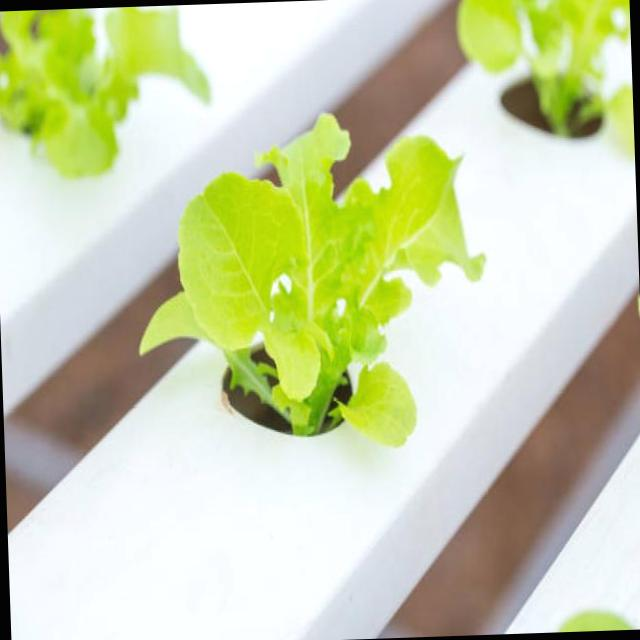Lettuce-Ready-to-Harvest: (140, 114, 484, 444), (0, 6, 208, 176), (458, 0, 634, 153)
